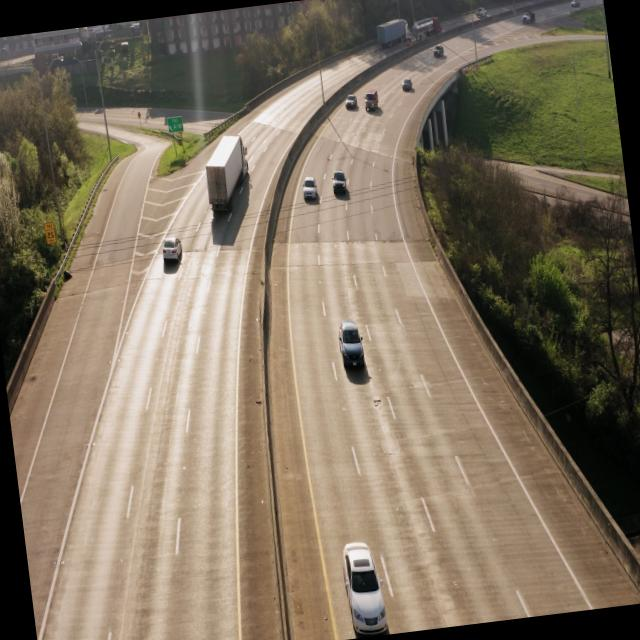Vehicle: (334, 536, 391, 640), (198, 130, 256, 224), (335, 319, 369, 380), (158, 232, 184, 270), (298, 172, 320, 206), (328, 165, 348, 202)
